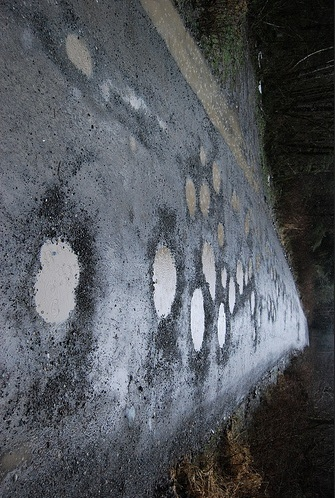pothole: (25, 233, 91, 335), (149, 236, 182, 330), (62, 21, 97, 76), (197, 239, 219, 297), (190, 287, 206, 350), (215, 302, 228, 353), (183, 175, 198, 216), (215, 219, 229, 255), (199, 178, 210, 218), (228, 275, 238, 316), (228, 191, 242, 219), (234, 260, 243, 298), (217, 264, 230, 289), (213, 156, 221, 195), (248, 288, 258, 317), (198, 141, 208, 169), (254, 250, 264, 276), (266, 288, 272, 319), (257, 309, 265, 331), (257, 226, 265, 245), (243, 213, 249, 237), (269, 267, 277, 279), (243, 268, 248, 286), (252, 325, 255, 350), (271, 299, 274, 319)
